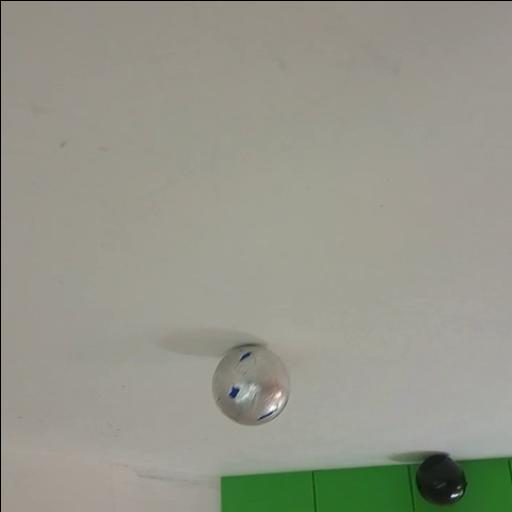alive: (212, 344, 290, 424)
dead: (414, 454, 466, 506)
